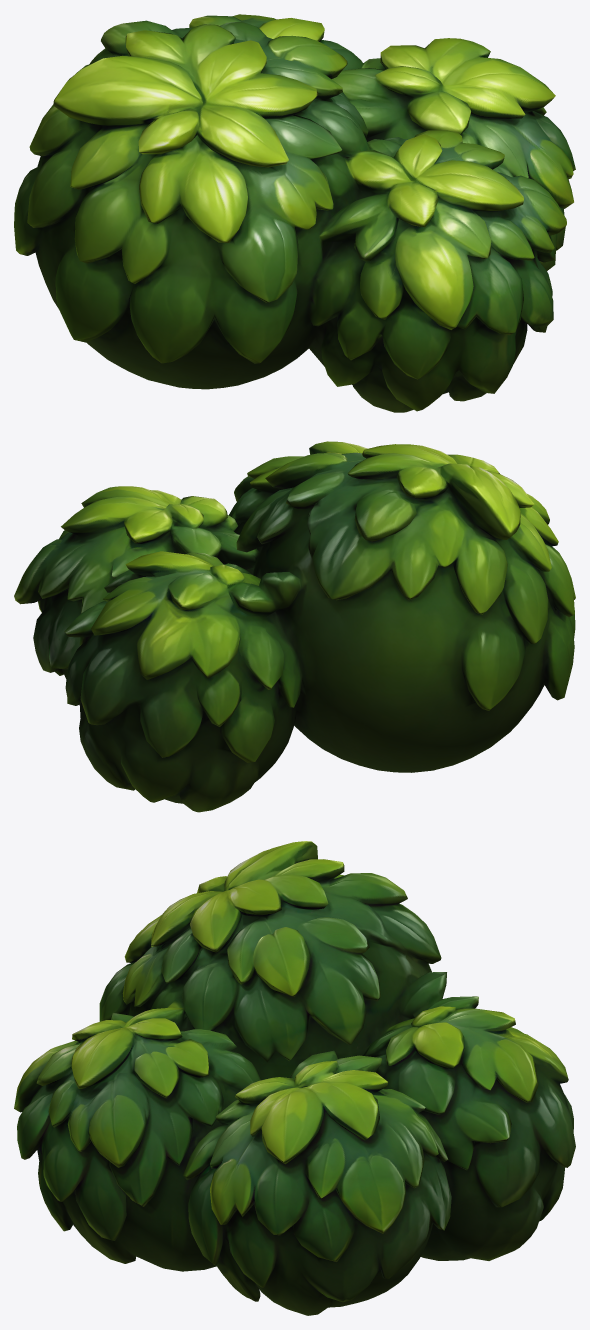
Rendered from Kit_W_BushA_HD_src.glb.
3 views of the same model, one above another, from view 1: azimuth 30°, elevation 25°; view 2: azimuth 150°, elevation 25°; view 3: azimuth 270°, elevation 25° (orthographic). The views are drawn at different scales.
Visible parts, largest first — view 1: tripo_node_c3d0bed4-1307-48ad-bdcd-d5b8c1503480; view 2: tripo_node_c3d0bed4-1307-48ad-bdcd-d5b8c1503480; view 3: tripo_node_c3d0bed4-1307-48ad-bdcd-d5b8c1503480.
Part boxes in pixels (box(x1,y1,x2,y2)): tripo_node_c3d0bed4-1307-48ad-bdcd-d5b8c1503480: box(14, 14, 575, 412); tripo_node_c3d0bed4-1307-48ad-bdcd-d5b8c1503480: box(14, 441, 575, 812); tripo_node_c3d0bed4-1307-48ad-bdcd-d5b8c1503480: box(14, 841, 575, 1315).
Bounding box in the file's own units: 0.98 × 0.6059 × 0.9784.
1 material, 1 textured.
